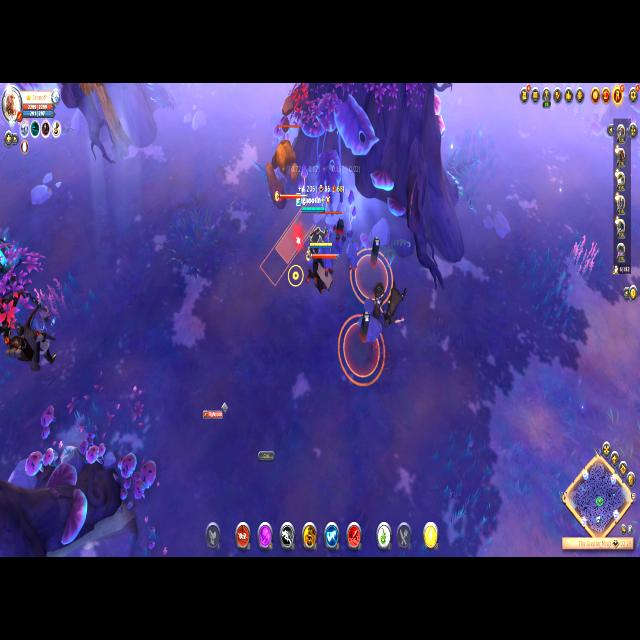ore: (262, 116, 310, 216), (6, 296, 65, 374), (317, 208, 358, 279)
red: (294, 188, 332, 264), (306, 240, 334, 301)
silver: (260, 211, 315, 286), (338, 315, 385, 386), (350, 249, 394, 305)
wisp caged: (74, 83, 136, 163)
